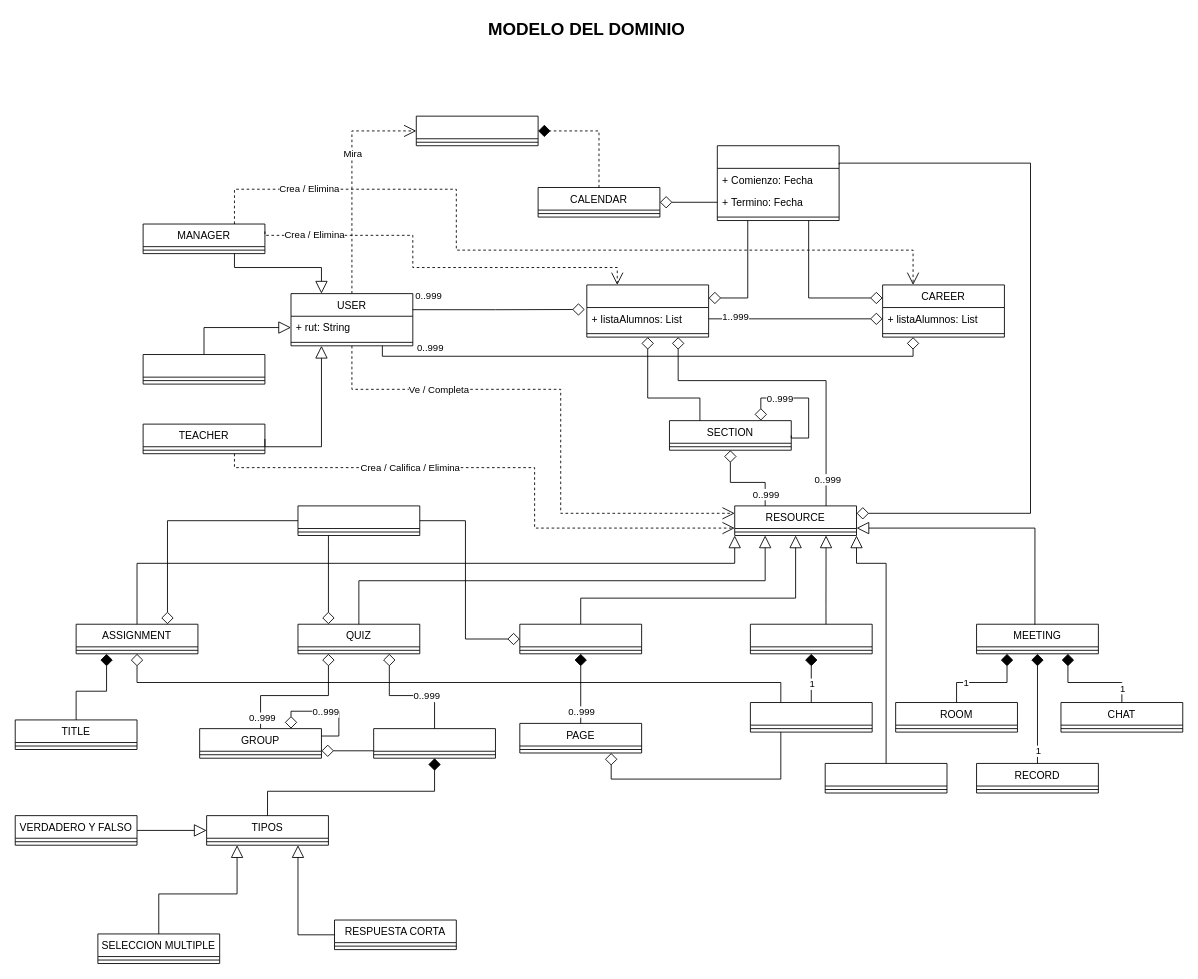
Image size: 1198x979. Some labels were removed from this diagram. Each missing label, with the box of its shape:
COURSE: (586, 284, 709, 337)
DASHBOARD: (415, 115, 538, 146)
DOCUMENT: (750, 623, 872, 654)
FILE: (750, 702, 872, 732)
GRADE: (297, 505, 420, 535)
LESSON: (519, 623, 642, 654)
LINK: (824, 763, 947, 793)
QUESTION: (373, 728, 495, 758)
SCHEDULE: (716, 145, 839, 221)
STUDENT: (142, 354, 265, 384)
